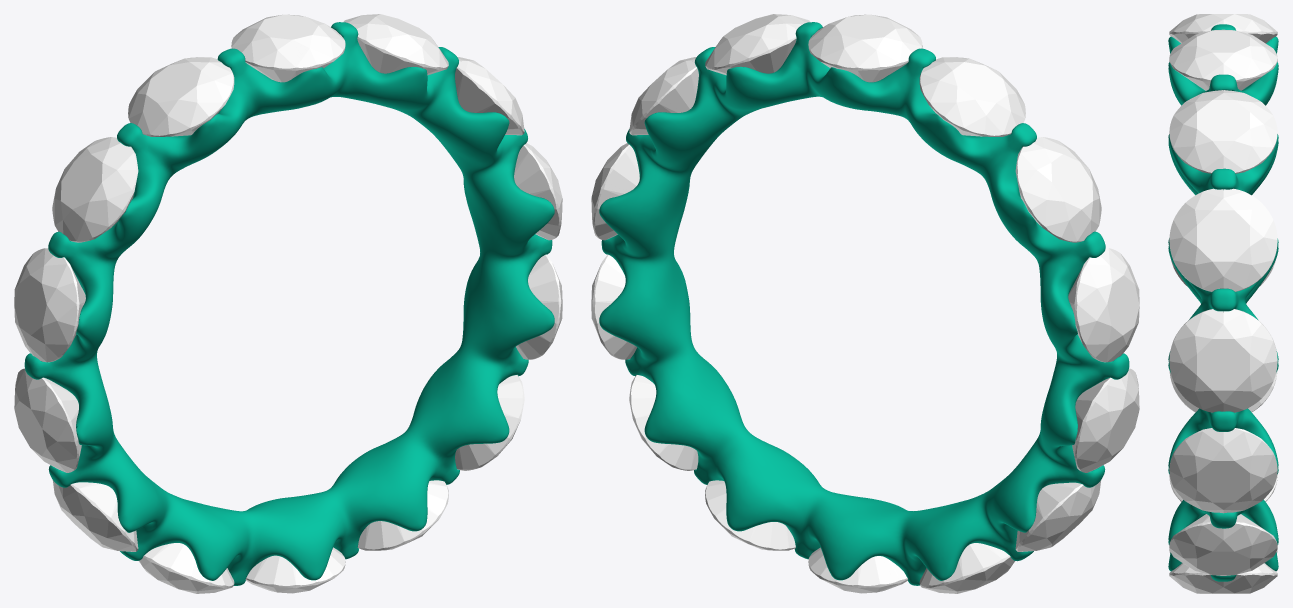
Rendered from BE2DR400E_RENDER.glb.
The picture shows the model from 3 angles, left to right: view 1: azimuth 30°, elevation 25°; view 2: azimuth 150°, elevation 25°; view 3: azimuth 270°, elevation 25°; orthographic projection. The views are drawn at different scales.
Parts seen in each view (by area): view 1: Metal03, Diamond_Round_Gem_BD.002, Diamond_Round_Gem_BD.001, Diamond_Round_Gem_BD.003, Diamond_Round_Gem_BD, Diamond_Round_Gem_BD.004, Diamond_Round_Gem_BD.013, Diamond_Round_Gem_BD.005, Diamond_Round_Gem_BD.012, Diamond_Round_Gem_BD.006, Diamond_Round_Gem_BD.011, Diamond_Round_Gem_BD.007 (+3 smaller); view 2: Metal03, Diamond_Round_Gem_BD.002, Diamond_Round_Gem_BD.001, Diamond_Round_Gem_BD.003, Diamond_Round_Gem_BD, Diamond_Round_Gem_BD.004, Diamond_Round_Gem_BD.013, Diamond_Round_Gem_BD.005, Diamond_Round_Gem_BD.012, Diamond_Round_Gem_BD.006, Diamond_Round_Gem_BD.011, Diamond_Round_Gem_BD.007 (+3 smaller); view 3: Metal03, Diamond_Round_Gem_BD.011, Diamond_Round_Gem_BD.012, Diamond_Round_Gem_BD.010, Diamond_Round_Gem_BD.013, Diamond_Round_Gem_BD.009, Diamond_Round_Gem_BD, Diamond_Round_Gem_BD.008, Diamond_Round_Gem_BD.001, Diamond_Round_Gem_BD.005.
Boxes of the visible parts, <box> form: Metal03: <box>24,22,554,585</box>; Diamond_Round_Gem_BD.002: <box>52,137,138,242</box>; Diamond_Round_Gem_BD.001: <box>128,57,234,136</box>; Diamond_Round_Gem_BD.003: <box>14,248,85,362</box>; Diamond_Round_Gem_BD: <box>231,14,345,82</box>; Diamond_Round_Gem_BD.004: <box>14,368,81,472</box>; Diamond_Round_Gem_BD.013: <box>343,14,448,75</box>; Diamond_Round_Gem_BD.005: <box>52,480,138,551</box>; Diamond_Round_Gem_BD.012: <box>455,57,524,135</box>; Diamond_Round_Gem_BD.006: <box>139,543,234,593</box>; Diamond_Round_Gem_BD.011: <box>514,143,562,240</box>; Diamond_Round_Gem_BD.007: <box>245,547,345,593</box>; Metal03: <box>599,22,1129,585</box>; Diamond_Round_Gem_BD.002: <box>1015,137,1101,242</box>; Diamond_Round_Gem_BD.001: <box>919,57,1025,136</box>; Diamond_Round_Gem_BD.003: <box>1068,248,1139,362</box>; Diamond_Round_Gem_BD: <box>808,14,922,82</box>; Diamond_Round_Gem_BD.004: <box>1072,368,1139,472</box>; Diamond_Round_Gem_BD.013: <box>705,14,810,75</box>; Diamond_Round_Gem_BD.005: <box>1015,480,1101,551</box>; Diamond_Round_Gem_BD.012: <box>629,57,698,135</box>; Diamond_Round_Gem_BD.006: <box>919,543,1014,593</box>; Diamond_Round_Gem_BD.011: <box>591,143,639,240</box>; Diamond_Round_Gem_BD.007: <box>808,547,907,593</box>; Metal03: <box>1168,24,1278,581</box>; Diamond_Round_Gem_BD.011: <box>1169,309,1277,412</box>; Diamond_Round_Gem_BD.012: <box>1169,188,1277,291</box>; Diamond_Round_Gem_BD.010: <box>1169,428,1277,513</box>; Diamond_Round_Gem_BD.013: <box>1169,90,1277,173</box>; Diamond_Round_Gem_BD.009: <box>1169,514,1277,575</box>; Diamond_Round_Gem_BD: <box>1169,29,1277,90</box>; Diamond_Round_Gem_BD.008: <box>1169,563,1277,593</box>; Diamond_Round_Gem_BD.001: <box>1169,14,1277,43</box>; Diamond_Round_Gem_BD.005: <box>1169,371,1277,412</box>.
Bounding box in the file's own units: 22.38 × 22.49 × 4.27.
